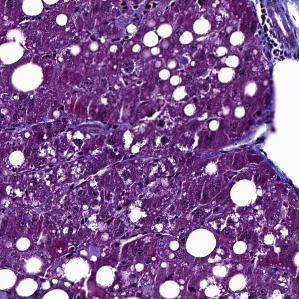fibrosis: (255, 6, 299, 62), (224, 122, 270, 170)
